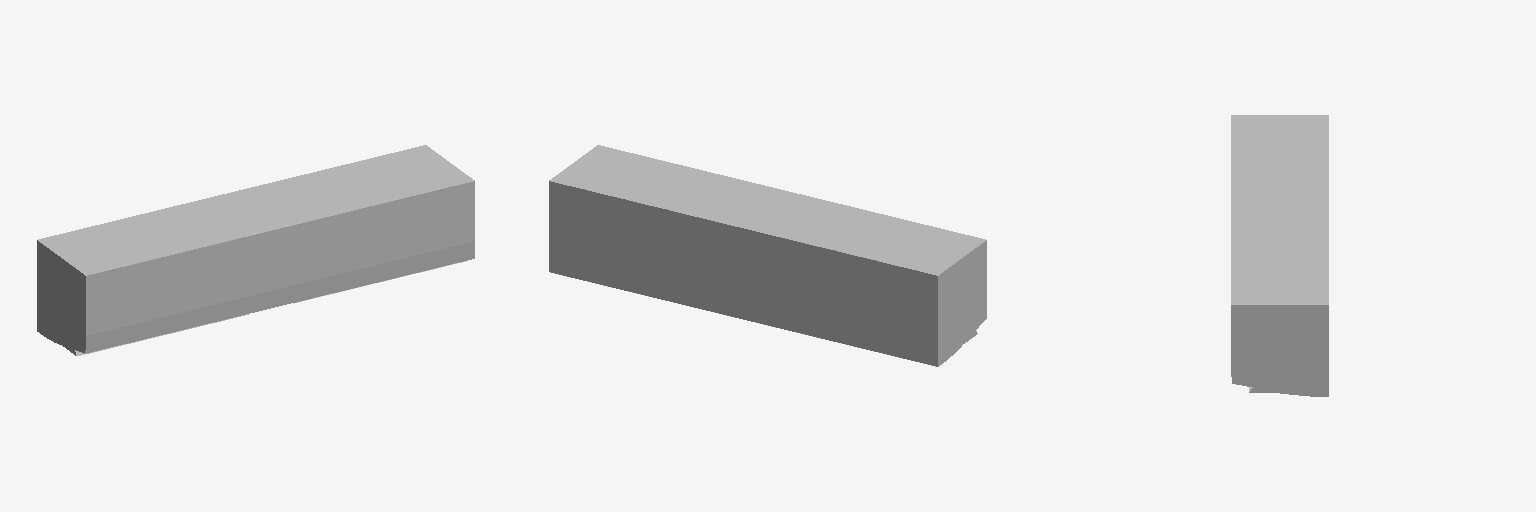
File: airbg.obj
3 renders of one model, left to right at view 1: azimuth 30°, elevation 25°; view 2: azimuth 150°, elevation 25°; view 3: azimuth 270°, elevation 25°, orthographic.
Parts seen in each view (by area): view 1: Surface001; view 2: Surface002, Surface001; view 3: Surface001.
Boxes of the visible parts, <box> form: Surface001: <box>37,145,474,355</box>; Surface002: <box>549,181,937,366</box>; Surface001: <box>549,145,986,366</box>; Surface001: <box>1231,115,1328,396</box>.
Bounding box in the file's own units: 960 × 215 × 211.